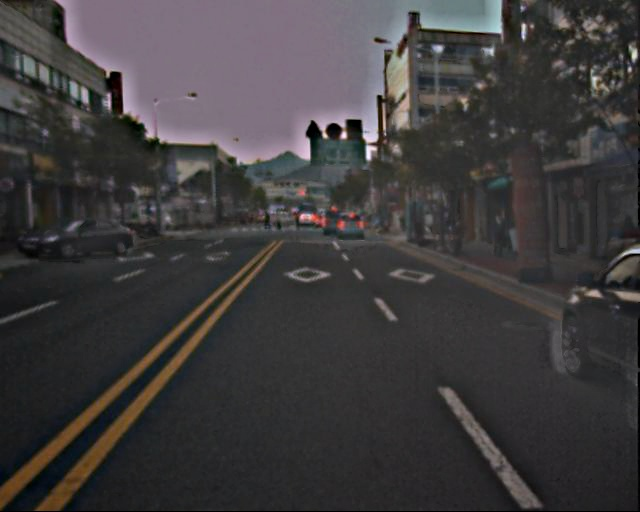person: (490, 214, 508, 257)
